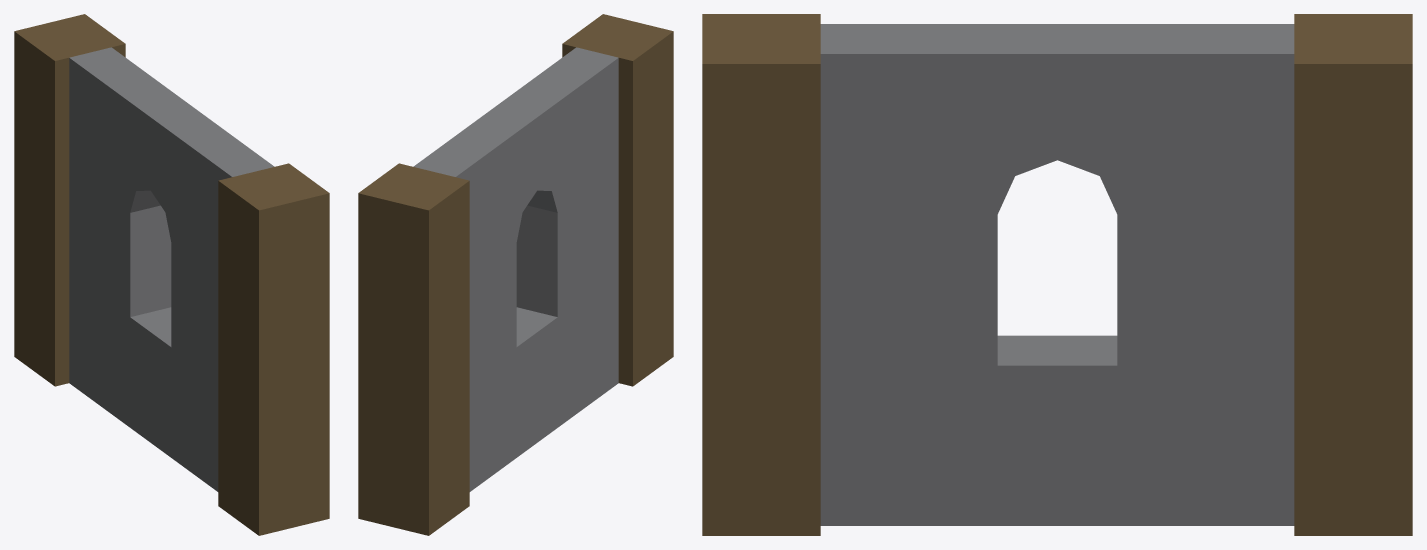
The model's file is Wood_Window_Round_01.obj.
3 views of the same model, side by side, from view 1: azimuth 30°, elevation 25°; view 2: azimuth 150°, elevation 25°; view 3: azimuth 270°, elevation 25° (orthographic). The views are drawn at different scales.
Parts seen in each view (by area): view 1: Mesh1_Wood_Window_Round_Model; view 2: Mesh1_Wood_Window_Round_Model; view 3: Mesh1_Wood_Window_Round_Model.
Boxes of the visible parts, <box> form: Mesh1_Wood_Window_Round_Model: <box>14,14,329,535</box>; Mesh1_Wood_Window_Round_Model: <box>358,14,673,535</box>; Mesh1_Wood_Window_Round_Model: <box>702,14,1412,535</box>.
Size of the model in its own units: 0.5 by 2.2 by 3.
